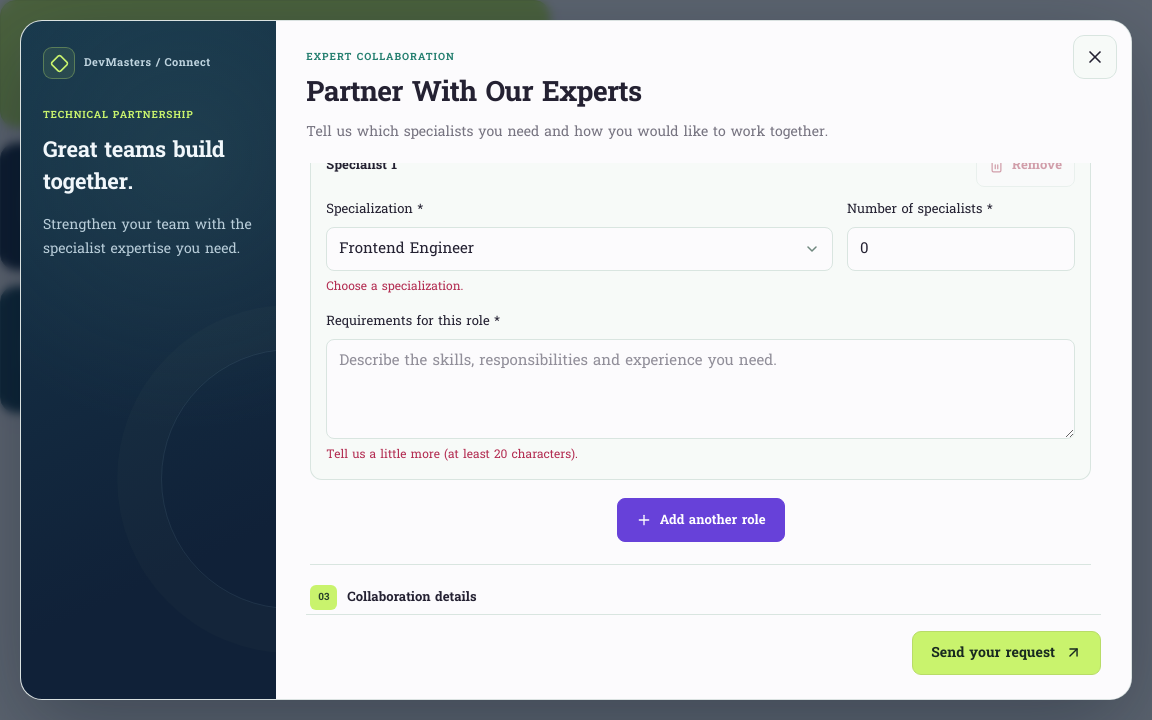
Test case: expert engagement dialogs › validates specialist rows and preserves the remaining row when another role is removed
This screenshot has width=1152, height=720.
Earlier steps of the test are not shown.
Later steps or results of the test are not shown.
(page scrolled)
Replace the text in the text box labelled "Requirements for this role" with "Build accessible, responsive user interfaces." at (701, 388), box [326,338,1075,438]
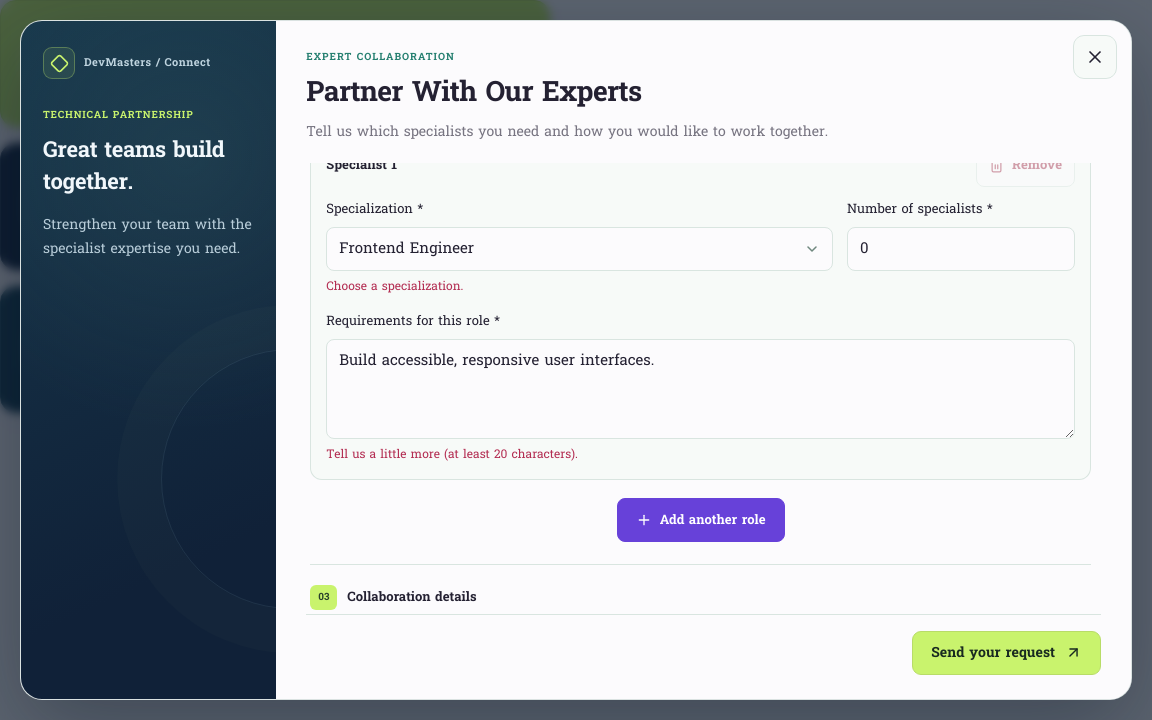
Click the button "Send your request" at (1007, 653), box [912,631,1101,675]
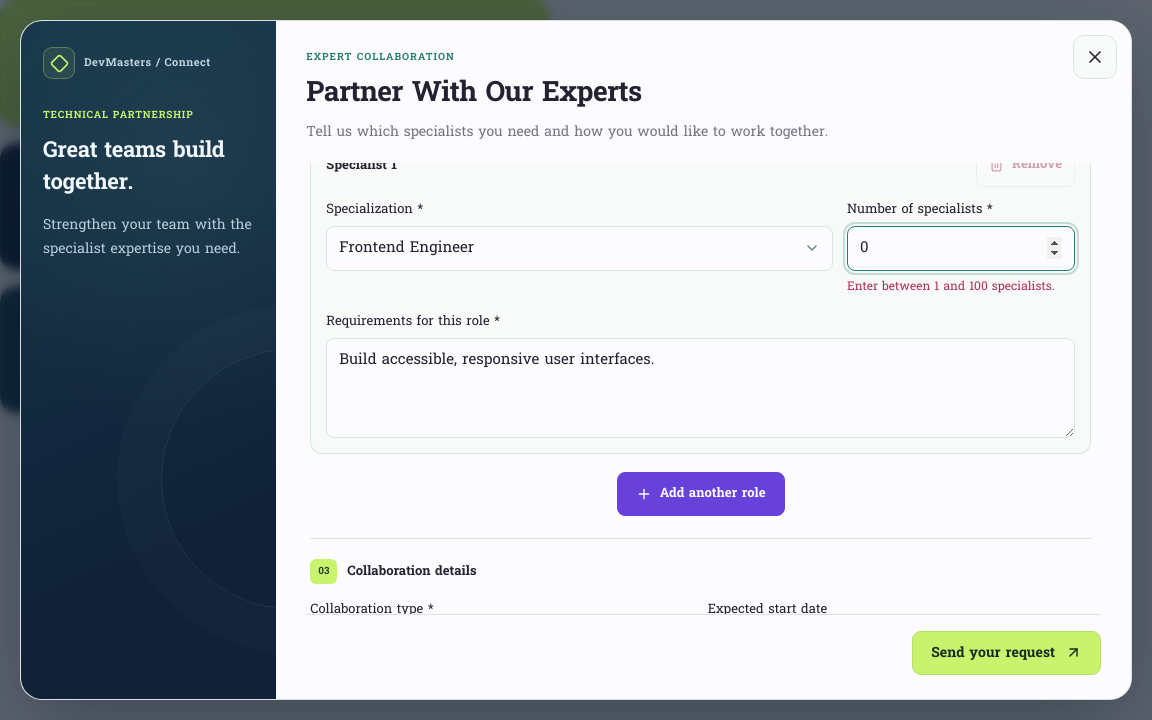
Now the text "Enter between 1 and 100 specialists." is shown, box [847,277,1075,296]
